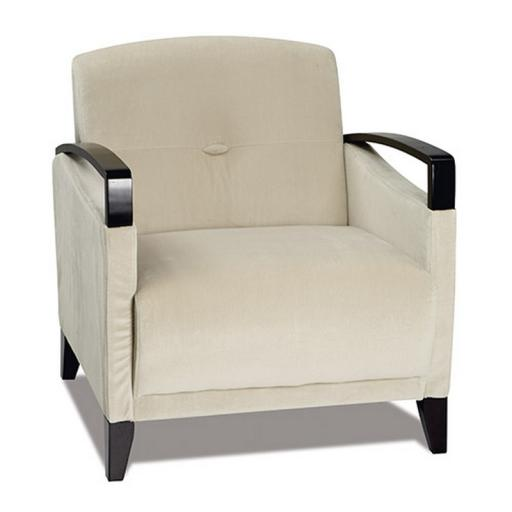chair: (40, 35, 474, 481)
